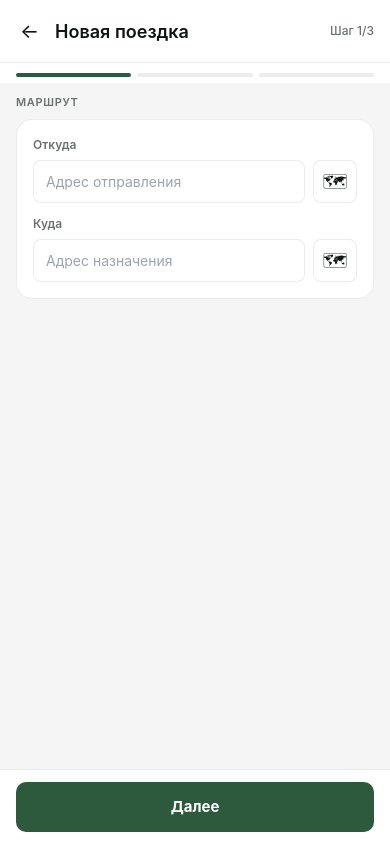
Scenario: CreateRideScreen › step 1: показывает ошибку если куда пустое при next
Type "ЖК Царёво" into the field with test id "input-from" at (169, 182), box x1=33 y1=160 x2=305 y2=203
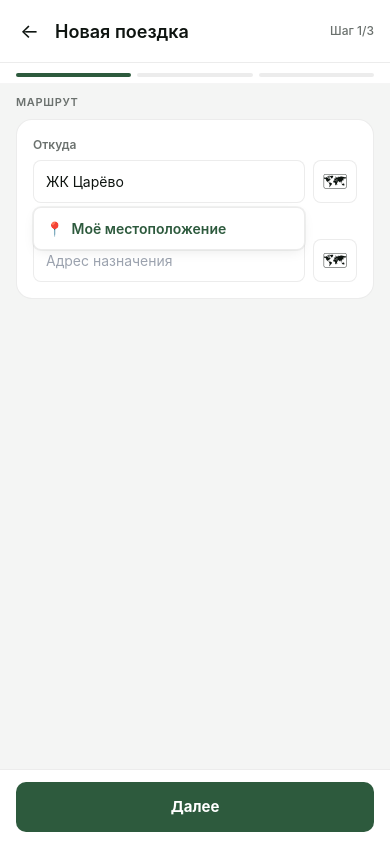
Click the button with test id "next-step-btn" at (195, 807), box x1=16 y1=782 x2=374 y2=832
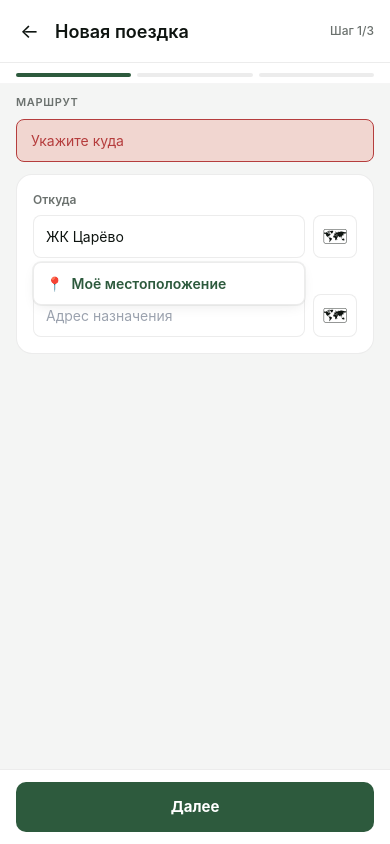
Expected: the text with test id "form-error" reads "Укажите куда", x1=31 y1=132 x2=124 y2=149
